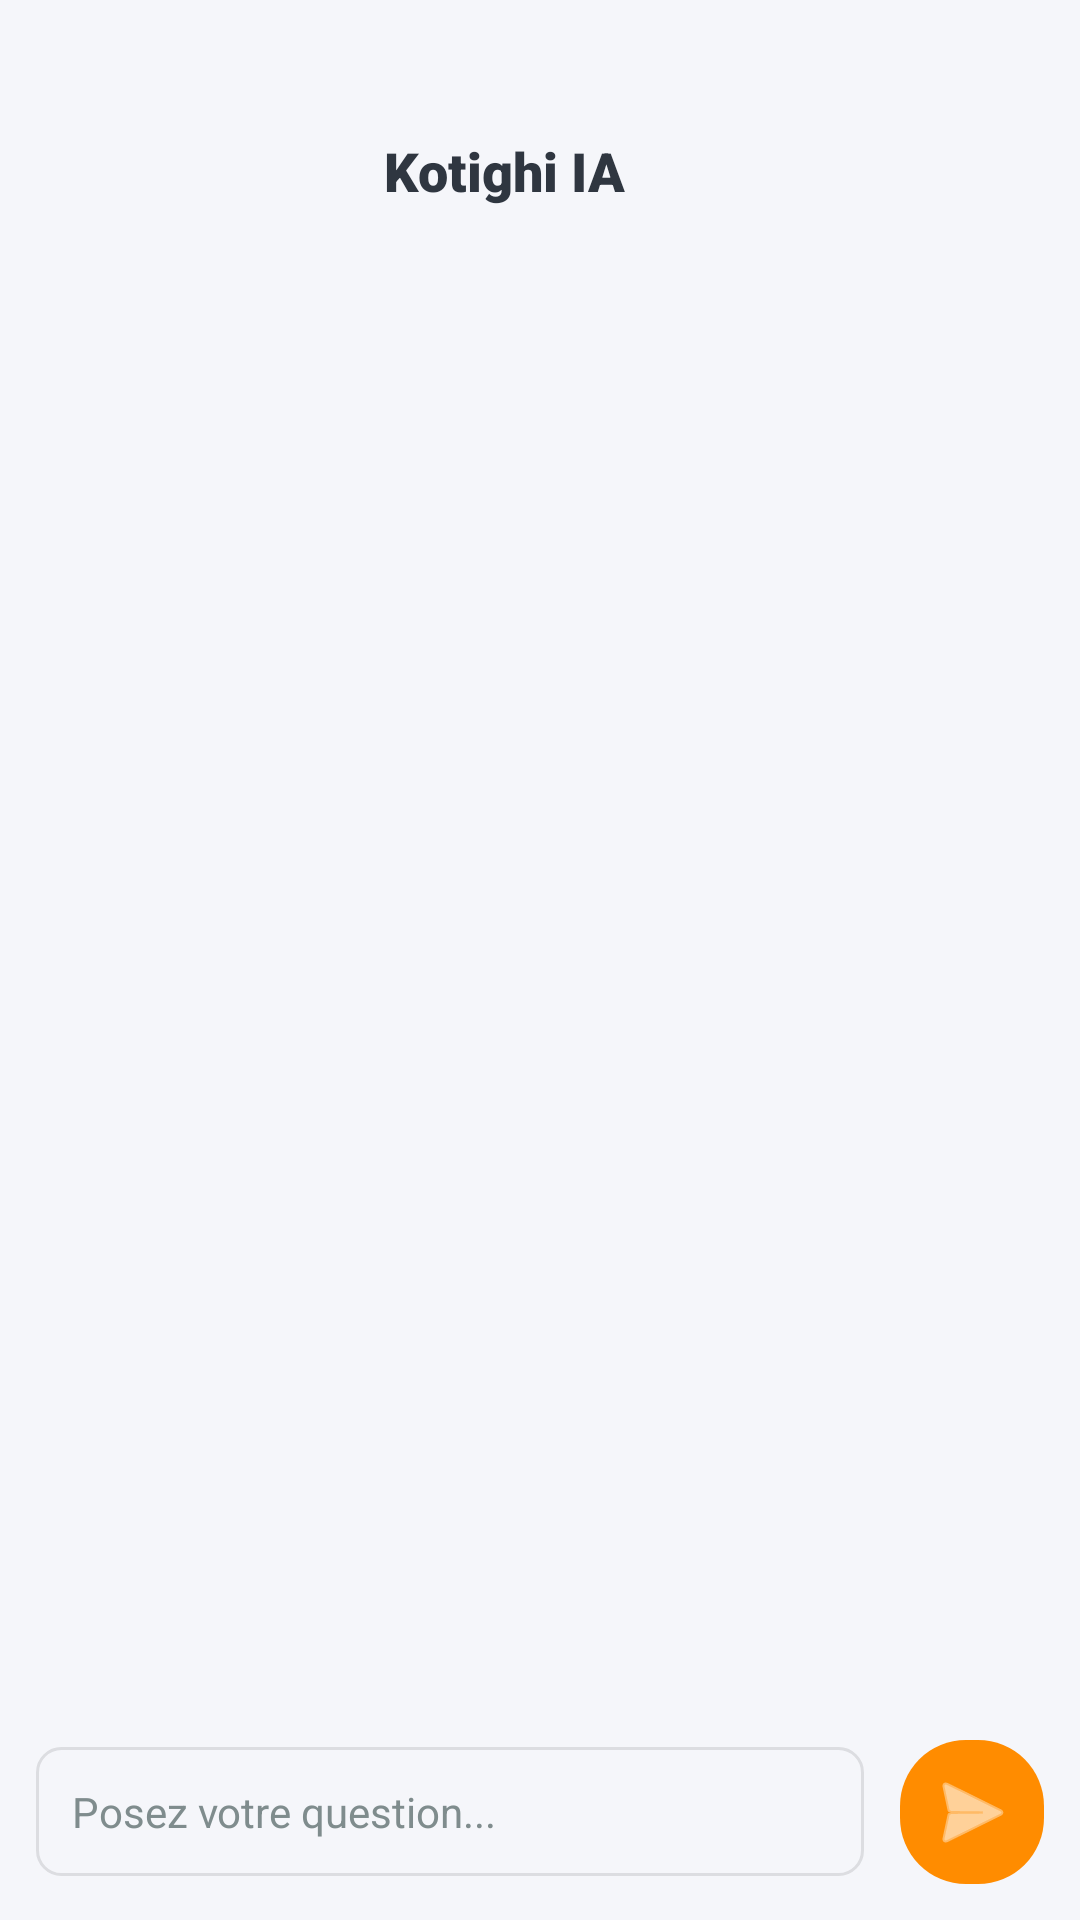

Point at icon controls on the screen. Image size 1080w x 1920h, points as (x=x, y=y).
send: (x=972, y=1812)
